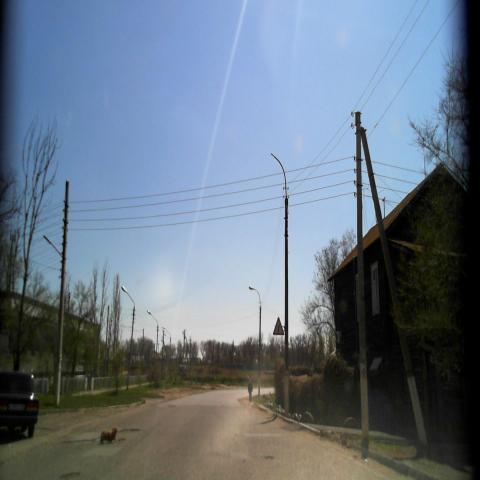1_11: (272, 316, 284, 338)
